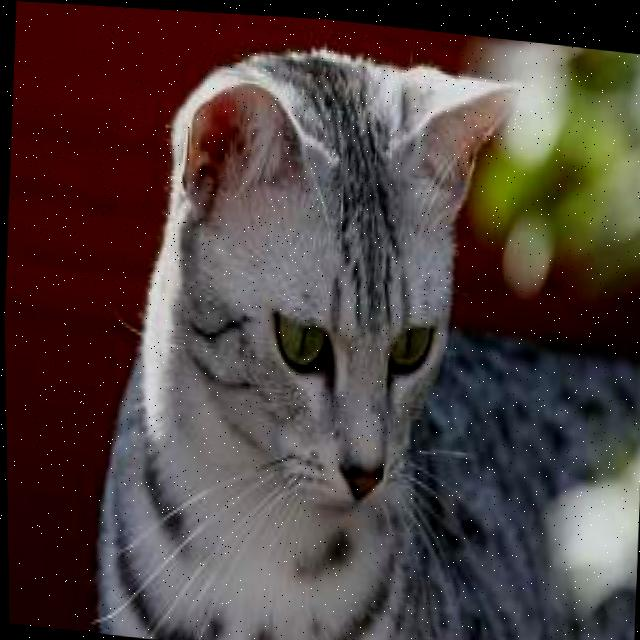Egyptian Mau: (79, 14, 640, 640)
